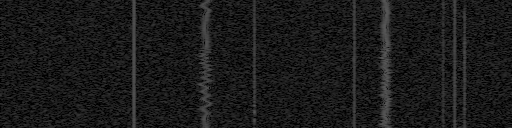wv_am: (252, 0, 257, 128)
wv_cw: (131, 0, 137, 128), (352, 0, 357, 128), (441, 0, 446, 128), (452, 0, 457, 128)
wv_lsb: (462, 2, 467, 128)
wv_wbfm: (195, 0, 216, 128), (375, 0, 395, 128)
